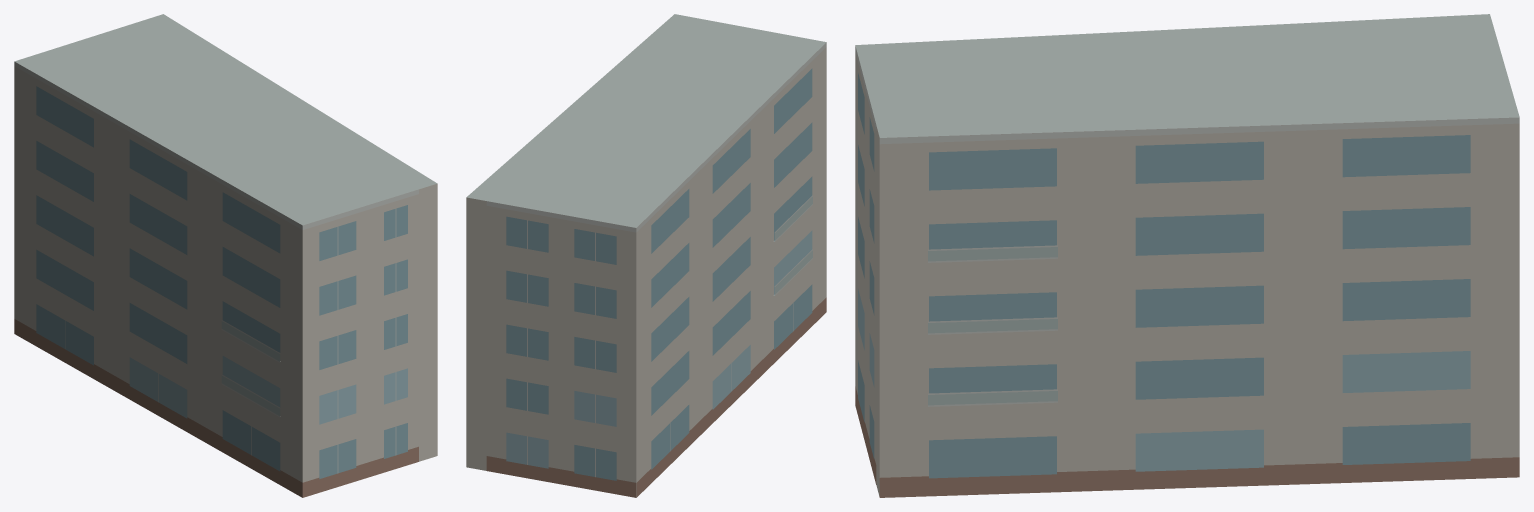
The model's file is survey-upis-32741416.glb.
The picture shows the model from 3 angles, left to right: view 1: azimuth 30°, elevation 25°; view 2: azimuth 150°, elevation 25°; view 3: azimuth 270°, elevation 25°; orthographic projection. The views are drawn at different scales.
Parts seen in each view (by area): view 1: survey-upis-32741416.tmp; view 2: survey-upis-32741416.tmp; view 3: survey-upis-32741416.tmp.
Boxes of the visible parts, x1,y1,x2,y2 form: survey-upis-32741416.tmp: (14,14,437,497); survey-upis-32741416.tmp: (466,14,826,497); survey-upis-32741416.tmp: (855,14,1519,497).
Size of the model in its own units: 10.5 by 14.2 by 23.77.
